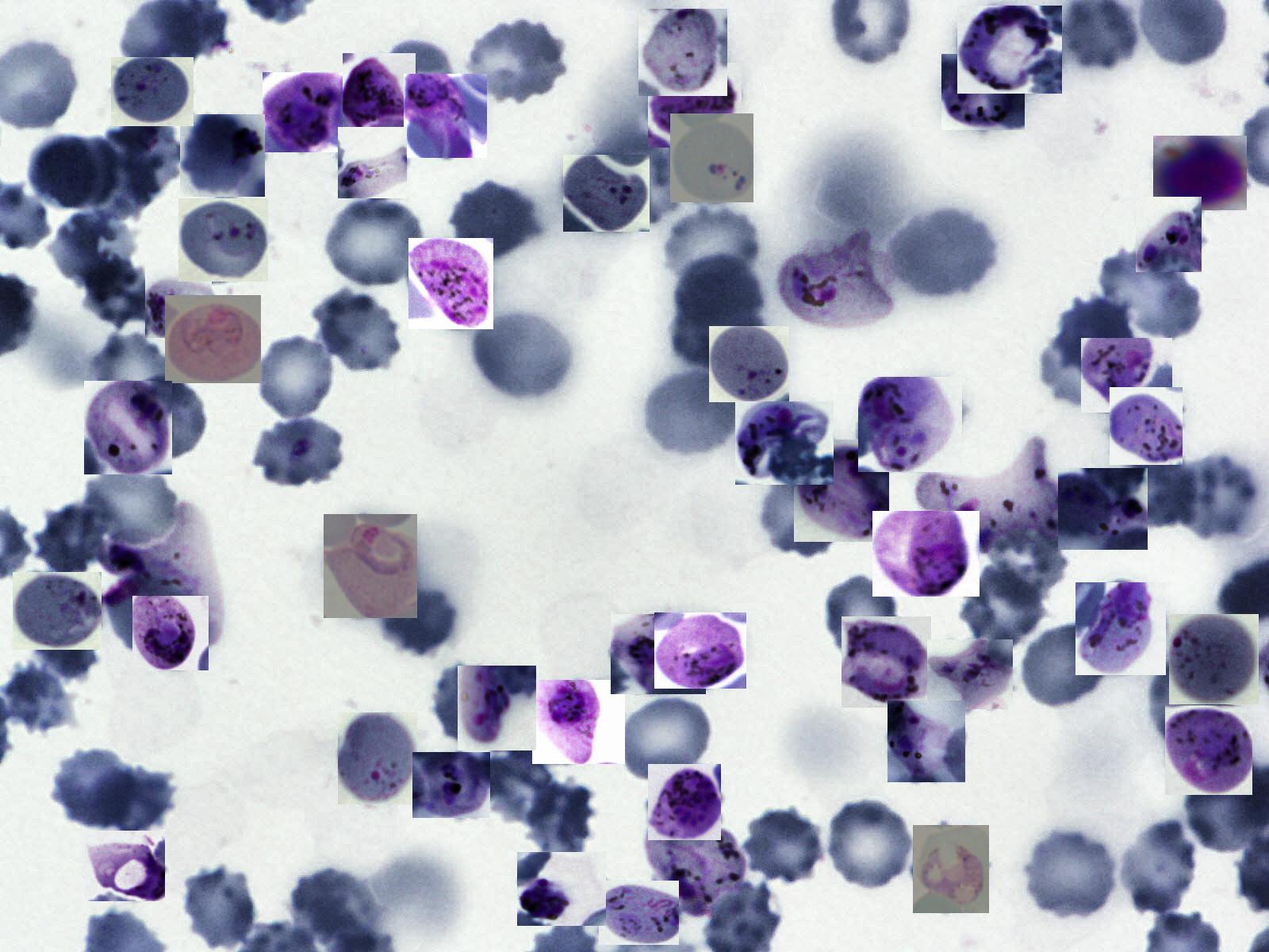Infected: (919, 438, 1071, 555), (98, 504, 220, 647), (646, 808, 746, 916), (777, 234, 889, 326), (858, 377, 962, 472), (794, 440, 889, 542), (324, 514, 417, 618), (872, 511, 980, 597), (957, 6, 1062, 94), (1075, 582, 1166, 675), (165, 296, 261, 384), (735, 401, 834, 485), (842, 616, 931, 708), (84, 381, 172, 474), (1169, 614, 1259, 704), (648, 63, 742, 148), (1165, 706, 1252, 796), (532, 680, 625, 764), (638, 9, 727, 96), (408, 238, 493, 329), (611, 614, 706, 694), (178, 198, 268, 282), (670, 113, 753, 202), (1058, 468, 1148, 550), (338, 712, 417, 804), (654, 612, 746, 689), (180, 114, 265, 197), (404, 74, 487, 158), (1153, 136, 1247, 210), (13, 572, 102, 650), (1081, 338, 1172, 413), (263, 72, 347, 152), (563, 155, 650, 232), (913, 825, 989, 913), (517, 852, 606, 926), (458, 666, 536, 750), (941, 54, 1025, 131), (888, 701, 965, 782), (709, 326, 789, 402), (927, 639, 1013, 709), (111, 57, 194, 126), (132, 596, 209, 670), (343, 53, 416, 131), (1110, 387, 1183, 465), (85, 831, 165, 901), (648, 764, 721, 840), (412, 752, 490, 818), (599, 881, 679, 945), (145, 262, 212, 338), (1136, 197, 1202, 272), (338, 127, 407, 198)
Uninfected: (891, 209, 995, 297), (755, 466, 848, 562), (642, 368, 745, 454), (1099, 250, 1202, 336), (98, 115, 182, 217), (818, 572, 909, 666), (472, 311, 570, 397), (91, 331, 182, 421), (958, 563, 1049, 652), (326, 202, 423, 285), (470, 21, 565, 102), (1148, 657, 1232, 748), (122, 367, 205, 459), (665, 207, 757, 289), (1028, 831, 1116, 916), (50, 747, 139, 830), (312, 290, 401, 372), (828, 800, 910, 888), (450, 180, 542, 258), (375, 40, 451, 134), (1041, 332, 1138, 405), (675, 252, 764, 331), (621, 701, 709, 779), (289, 867, 378, 944), (82, 465, 174, 539), (1025, 624, 1106, 708), (1123, 820, 1194, 915), (429, 663, 512, 743), (26, 134, 111, 211), (477, 750, 562, 827), (1177, 455, 1254, 539), (258, 336, 334, 419), (77, 254, 157, 332), (670, 299, 761, 367), (1055, 297, 1135, 374), (52, 214, 136, 285), (254, 421, 343, 487), (506, 689, 584, 764), (185, 867, 256, 949), (105, 584, 189, 653), (745, 808, 822, 882), (1121, 455, 1198, 526), (95, 766, 174, 835), (32, 501, 107, 573), (526, 781, 592, 862), (380, 587, 456, 655), (37, 604, 100, 682)
